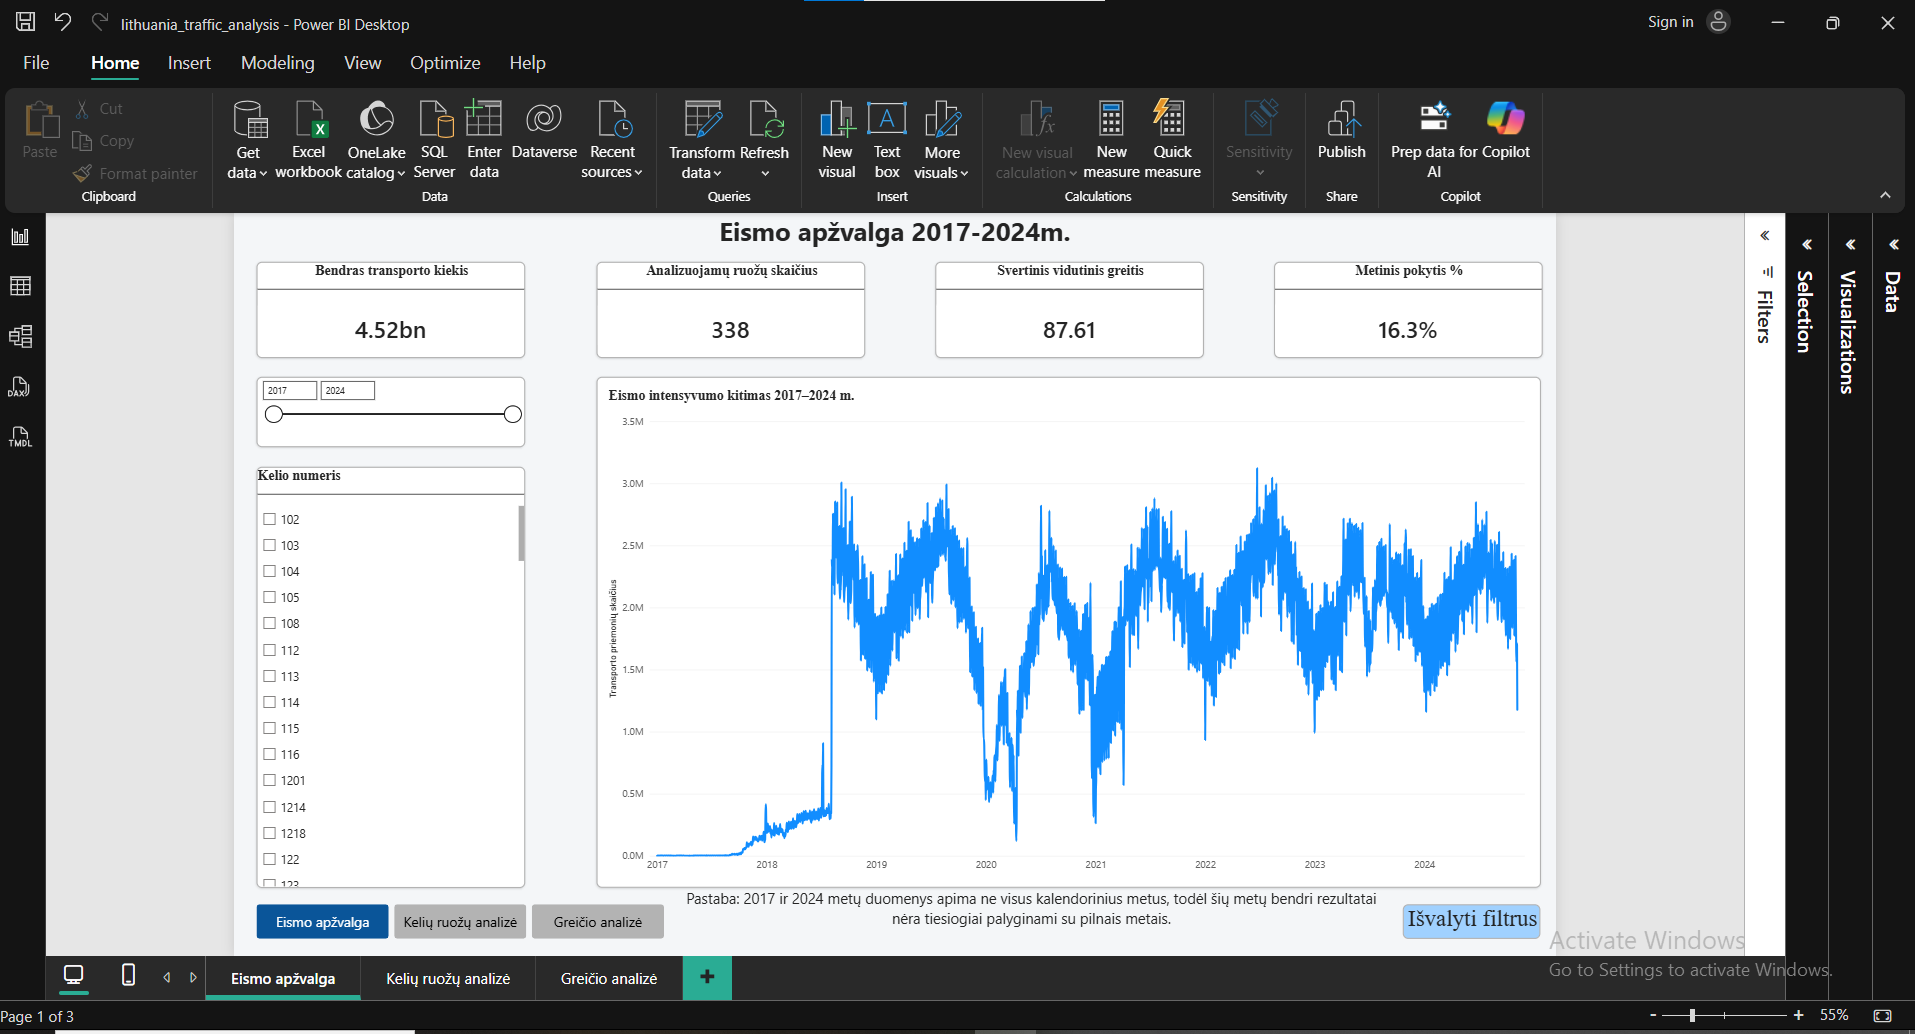

The dashboard page shown, as its layout file describes it:
{"tool":"powerbi","page":{"name":"Eismo apžvalga","canvas":[1920,1080],"ordinal":0},"visuals":[{"type":"cardVisual","title":"Bendras transporto kiekis","fields":{"Data":["Fact Daily Traffic.Bendras transporto kiekis"]},"box":[32,70,390,140],"z":0},{"type":"cardVisual","title":"Svertinis vidutinis greitis","fields":{"Data":["Fact Daily Traffic.Svertinis vidutinis greitis"]},"box":[1018,70,390,140],"z":1},{"type":"cardVisual","title":"Analizuojamų ruožų skaičius","fields":{"Data":["Fact Daily Traffic.Analizuojamų ruožų skaičius"]},"box":[526,70,390,140],"z":2},{"type":"cardVisual","title":"Metinis pokytis %","fields":{"Data":["Fact Daily Traffic.Metinis pokytis %"]},"box":[1510,70,390,140],"z":3},{"type":"slicer","fields":{"Values":["Dim Date.calendar_year"]},"box":[32,238,390,102.5],"z":4},{"type":"slicer","title":"Kelio numeris","fields":{"Values":["Dim Road Segment.road_number"]},"box":[32,368,390,612],"z":5},{"type":"lineChart","title":"Eismo intensyvumo kitimas 2017–2024 m.","fields":{"Category":["Dim Date.date_value"],"Y":["Fact Daily Traffic.Bendras transporto kiekis"]},"box":[526,238,1372,742],"z":6},{"type":"textbox","box":[645,980,1027.5,75],"z":7},{"type":"actionButton","title":"Išvalyti filtrus","box":[1697.5,1005,200,50],"z":8},{"type":"pageNavigator","box":[32.5,1005,594,50],"z":9},{"type":"textbox","box":[0,0,1920,70],"z":10}]}

Visuals, with their boxes on the page's 1920x1080 design canvas (x1, y1, x2, y2). These are canvas units, not pixel positions in the 1915x1034 screenshot, which may show the page scaled, cropped or inside an application window:
"Bendras transporto kiekis" cardVisual: <region>32, 70, 422, 210</region>
"Svertinis vidutinis greitis" cardVisual: <region>1018, 70, 1408, 210</region>
"Analizuojamų ruožų skaičius" cardVisual: <region>526, 70, 916, 210</region>
"Metinis pokytis %" cardVisual: <region>1510, 70, 1900, 210</region>
slicer - Dim Date.calendar_year: <region>32, 238, 422, 340</region>
"Kelio numeris" slicer: <region>32, 368, 422, 980</region>
"Eismo intensyvumo kitimas 2017–2024 m." lineChart: <region>526, 238, 1898, 980</region>
textbox: <region>645, 980, 1672, 1055</region>
"Išvalyti filtrus" actionButton: <region>1698, 1005, 1898, 1055</region>
pageNavigator: <region>32, 1005, 626, 1055</region>
textbox: <region>0, 0, 1920, 70</region>
